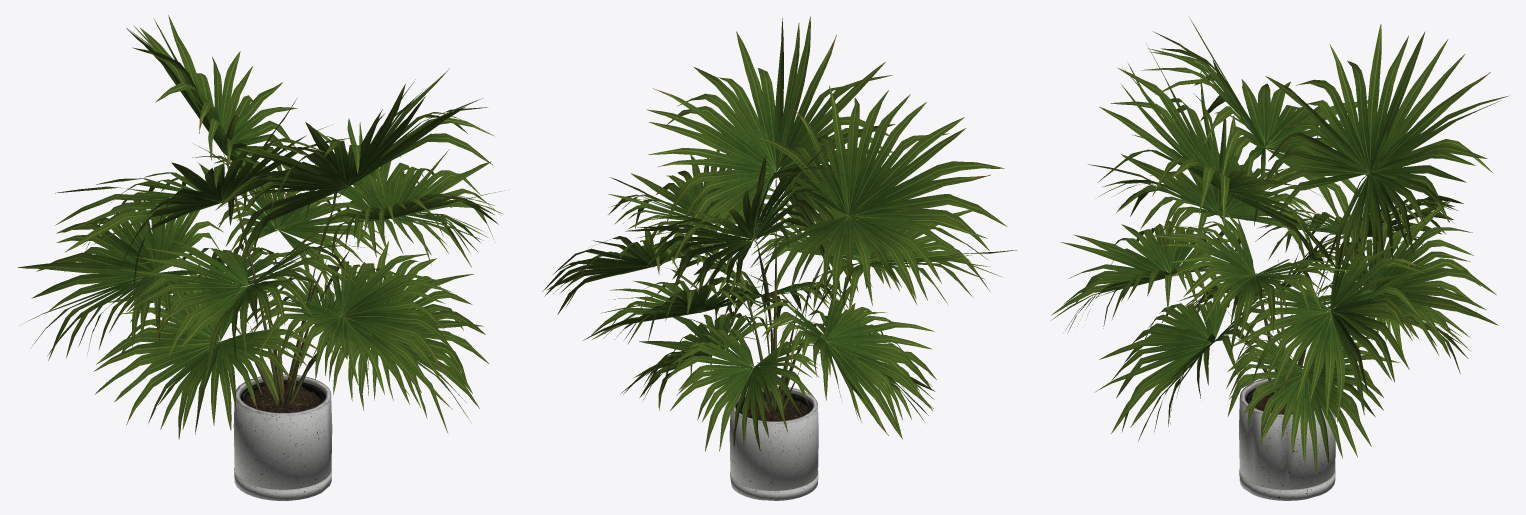
Rendered from fan-palm.glb.
The picture shows the model from 3 angles, left to right: view 1: azimuth 30°, elevation 25°; view 2: azimuth 150°, elevation 25°; view 3: azimuth 270°, elevation 25°; orthographic projection. The views are drawn at different scales.
Visible parts, largest first — view 1: LIVISTONA_CHINENSIS_LIVISTONA_CHINENSIS_Mat_0, PLANTER_TERRA_BASE_PLANTER_BOTTOM_CROSS_Mat_0; view 2: LIVISTONA_CHINENSIS_LIVISTONA_CHINENSIS_Mat_0, PLANTER_TERRA_BASE_PLANTER_BOTTOM_CROSS_Mat_0; view 3: LIVISTONA_CHINENSIS_LIVISTONA_CHINENSIS_Mat_0, PLANTER_TERRA_BASE_PLANTER_BOTTOM_CROSS_Mat_0.
Part boxes in pixels (<box>): LIVISTONA_CHINENSIS_LIVISTONA_CHINENSIS_Mat_0: <box>18,15,504,439</box>; PLANTER_TERRA_BASE_PLANTER_BOTTOM_CROSS_Mat_0: <box>233,374,332,500</box>; LIVISTONA_CHINENSIS_LIVISTONA_CHINENSIS_Mat_0: <box>542,16,1016,451</box>; PLANTER_TERRA_BASE_PLANTER_BOTTOM_CROSS_Mat_0: <box>729,386,818,500</box>; LIVISTONA_CHINENSIS_LIVISTONA_CHINENSIS_Mat_0: <box>1051,17,1509,475</box>; PLANTER_TERRA_BASE_PLANTER_BOTTOM_CROSS_Mat_0: <box>1239,377,1335,500</box>.
Size of the model in its own units: 1.9 by 1.81 by 1.73.
Materials: 2 (2 with a texture image).
